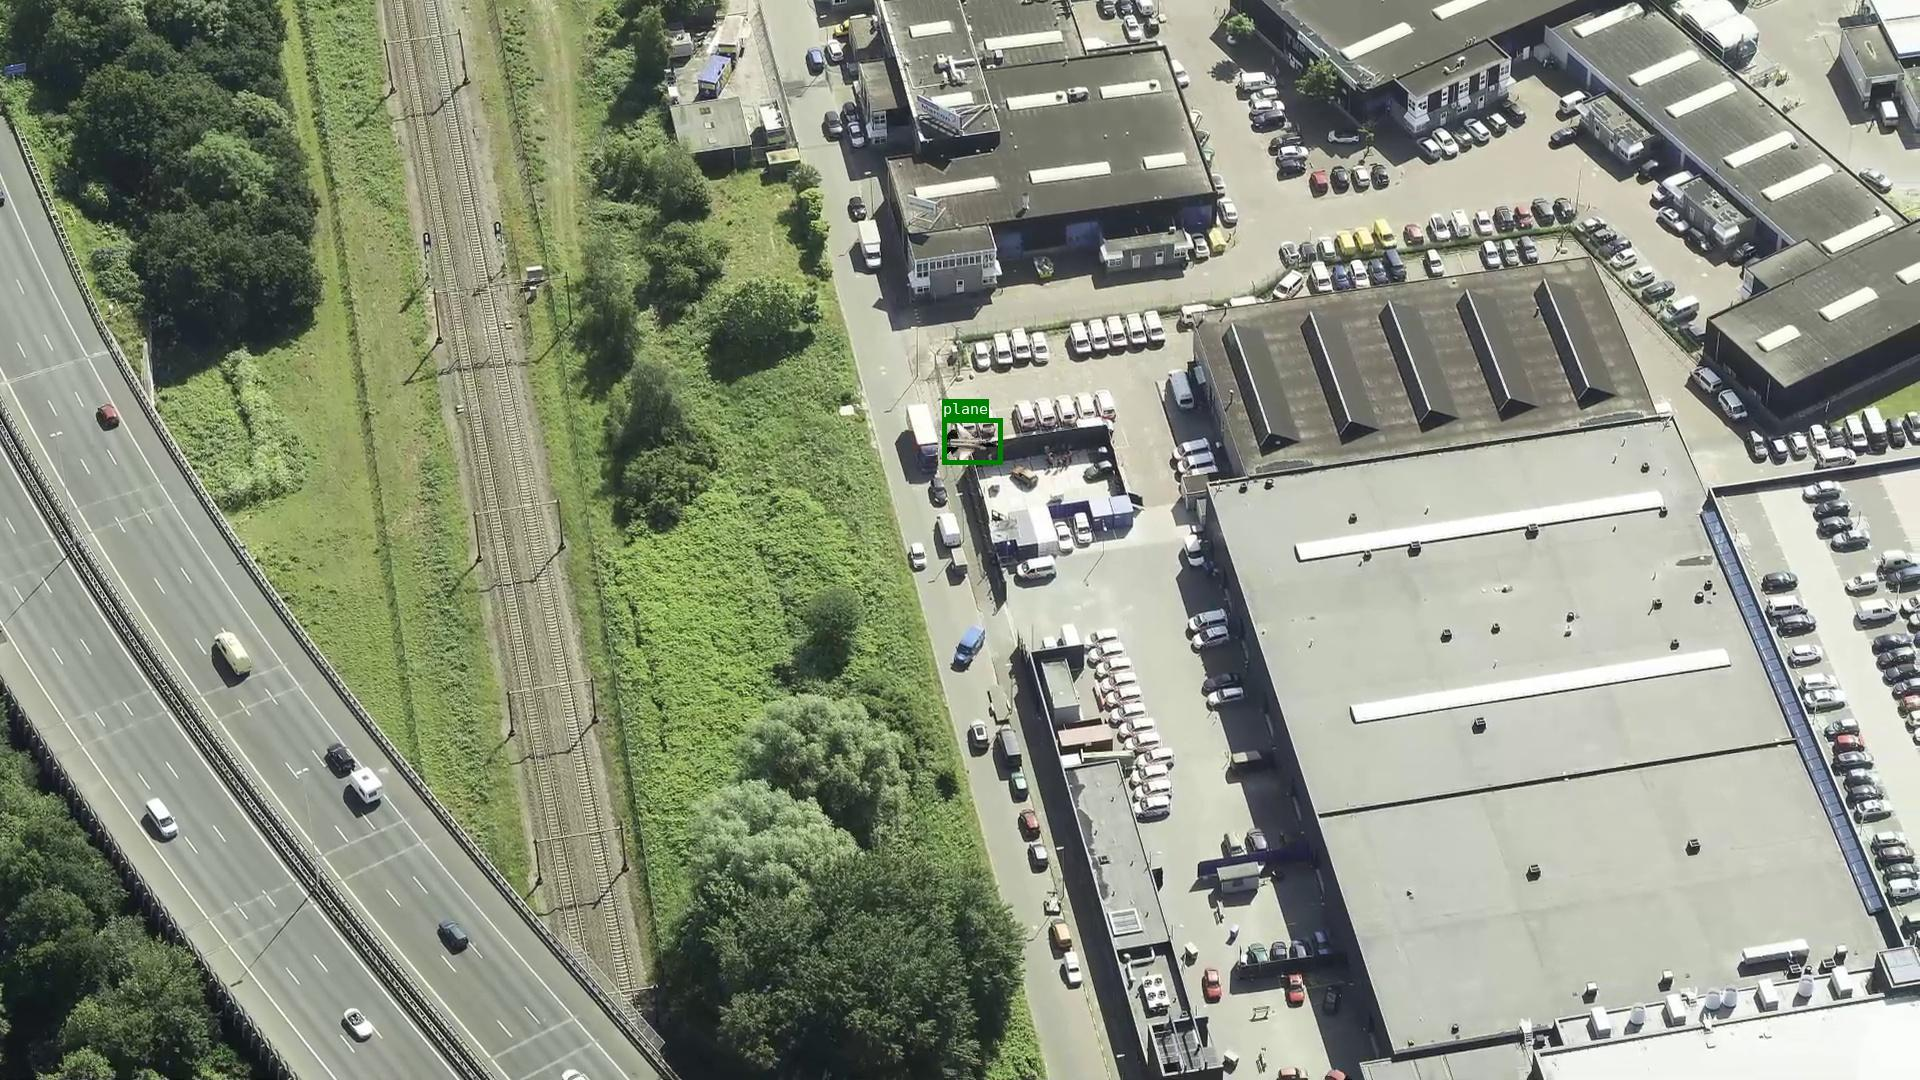plane: (942, 418, 1002, 464)
